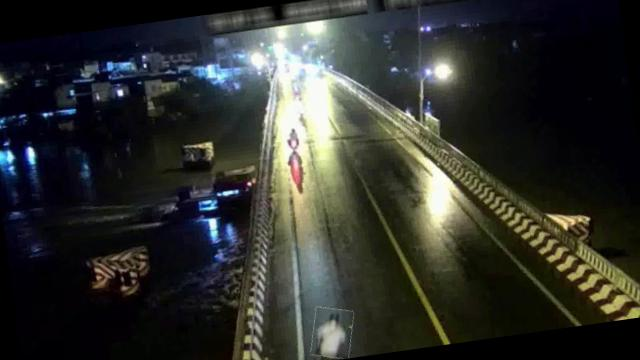Bike: (306, 303, 356, 360), (286, 126, 302, 152), (288, 75, 302, 98), (296, 112, 310, 127), (296, 68, 307, 87)
